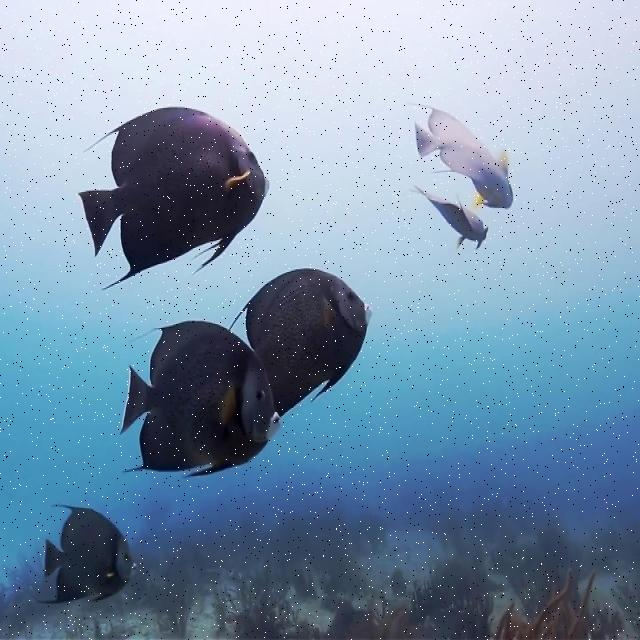fish: (81, 108, 269, 294), (78, 105, 270, 287), (119, 318, 281, 479), (246, 270, 372, 419), (415, 108, 513, 209), (39, 504, 129, 605), (417, 186, 487, 249)
